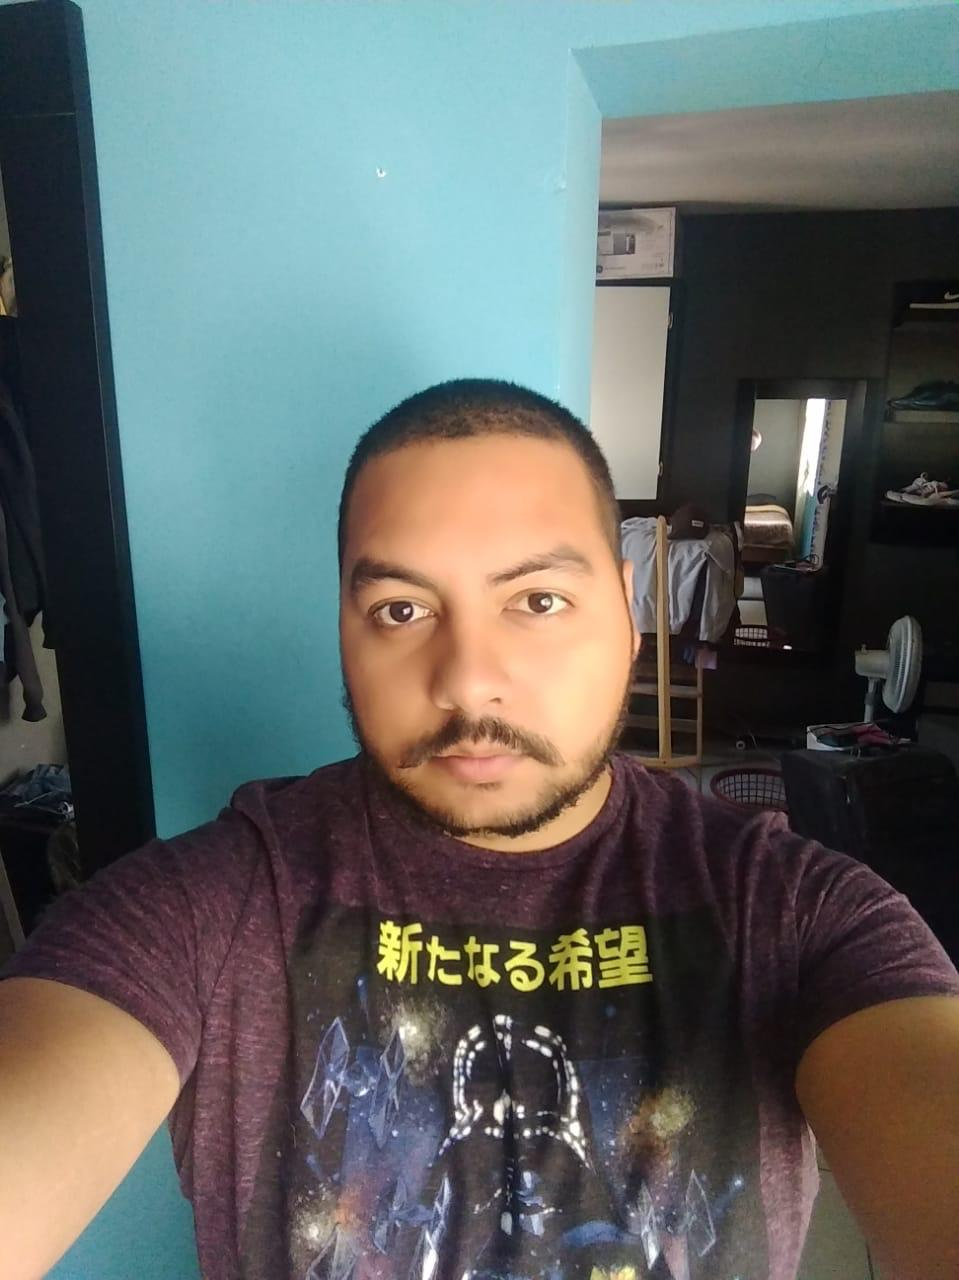Yoshi: (296, 354, 649, 866)
